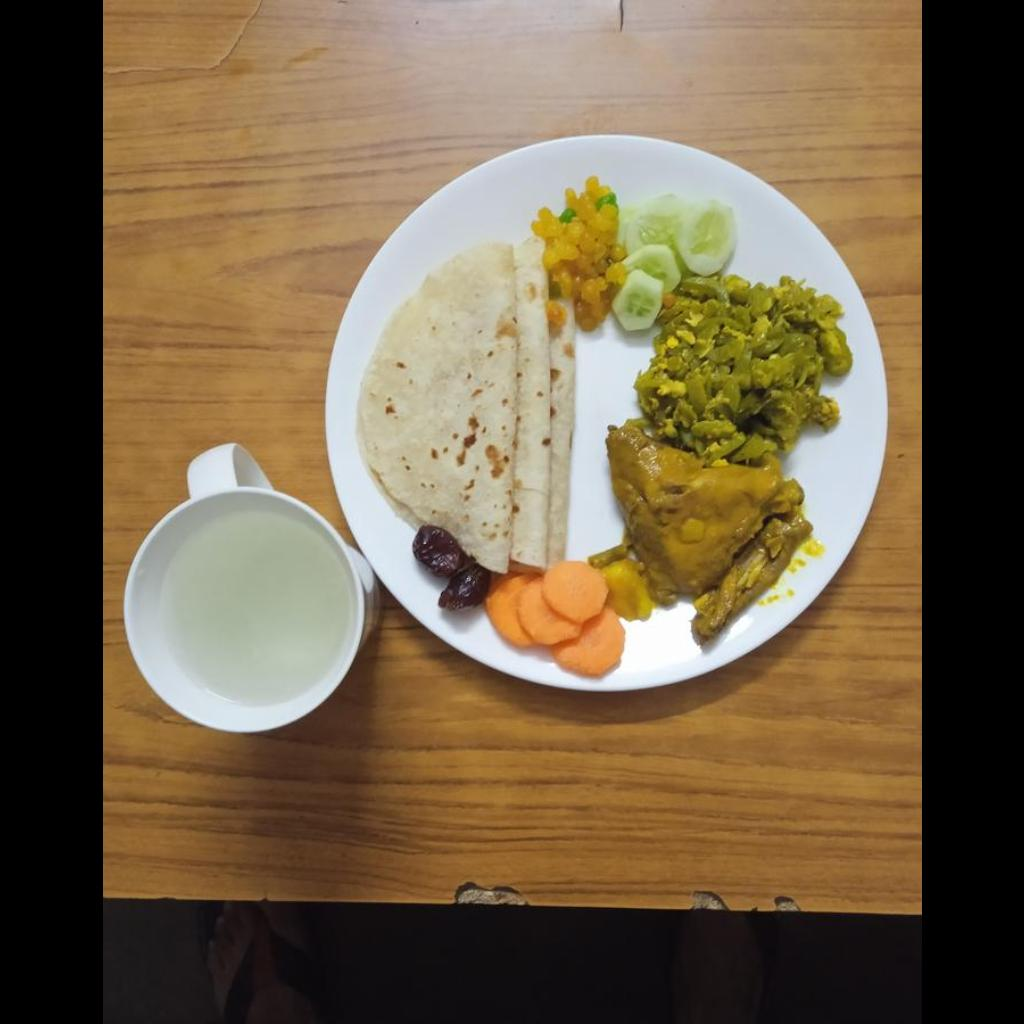burinda: (531, 176, 623, 330)
carrot: (485, 561, 621, 676)
chichinga-vaji: (633, 276, 850, 464)
chicken: (608, 421, 802, 603)
cucumber: (612, 193, 735, 332)
dates: (411, 526, 488, 610)
ruti: (349, 238, 578, 574)
